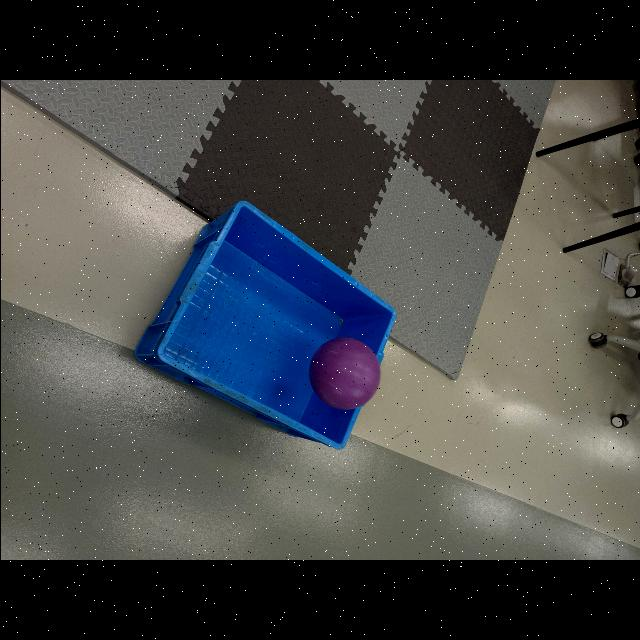P: (310, 334, 380, 412)
